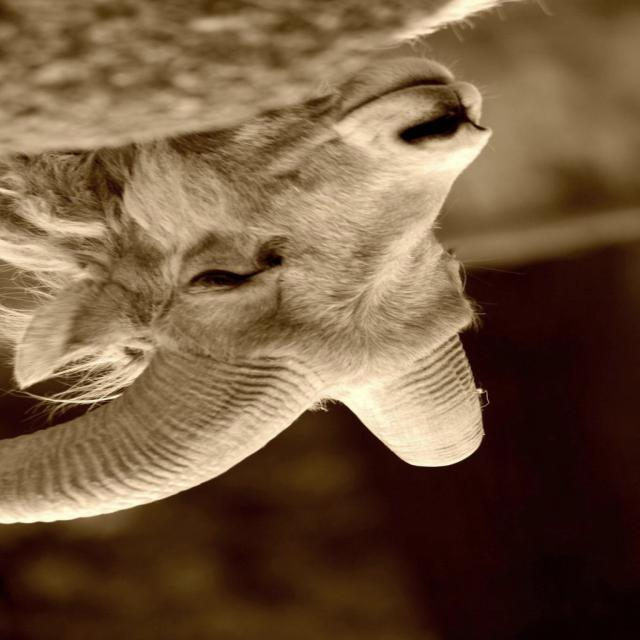Goat: (0, 50, 503, 526)
